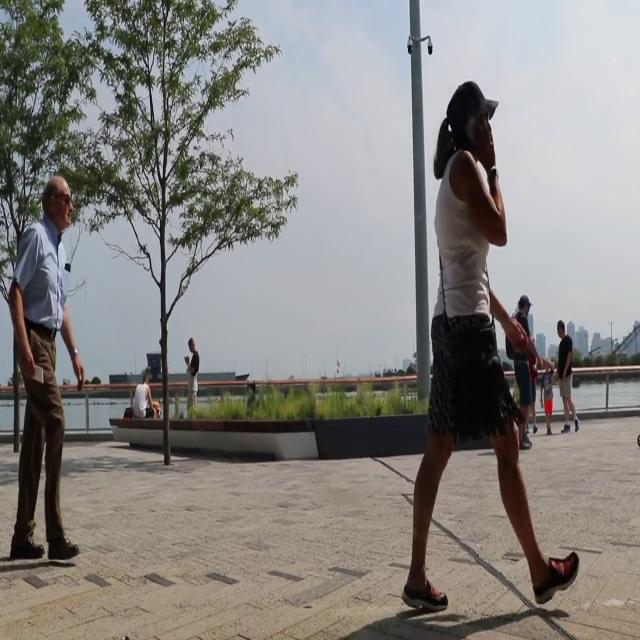normal: (409, 80, 583, 614), (11, 164, 95, 568)
